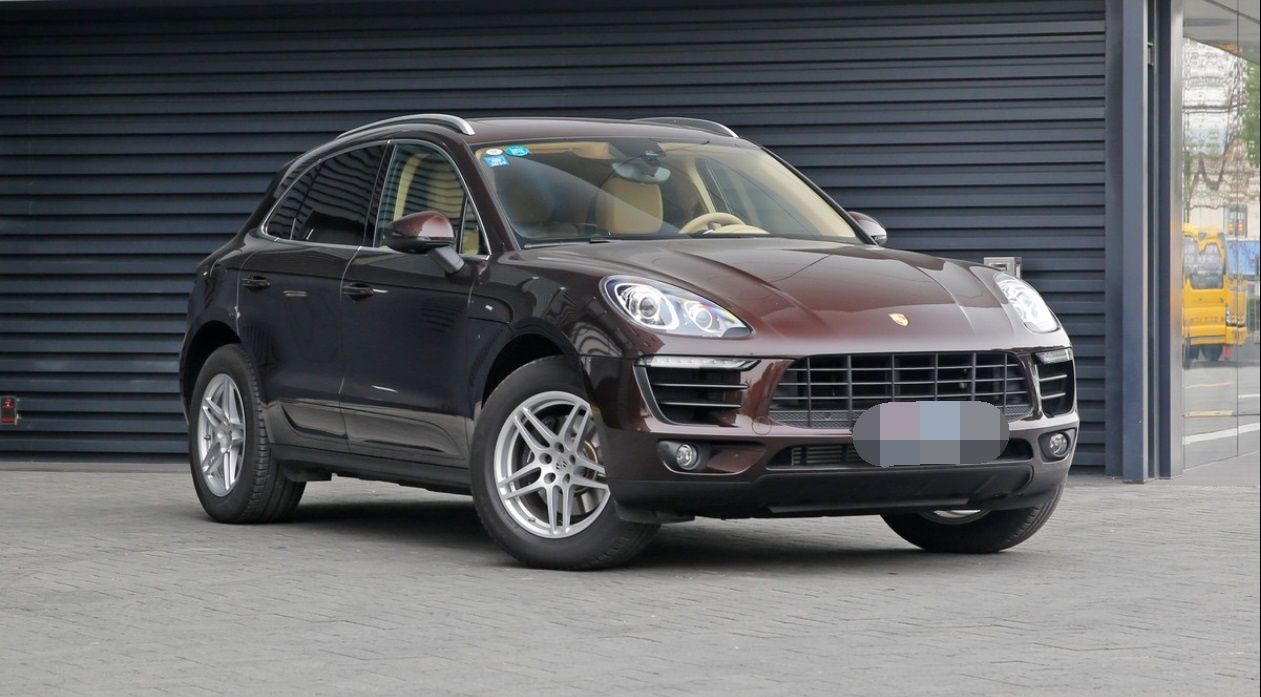SUV: (149, 97, 1120, 597)
